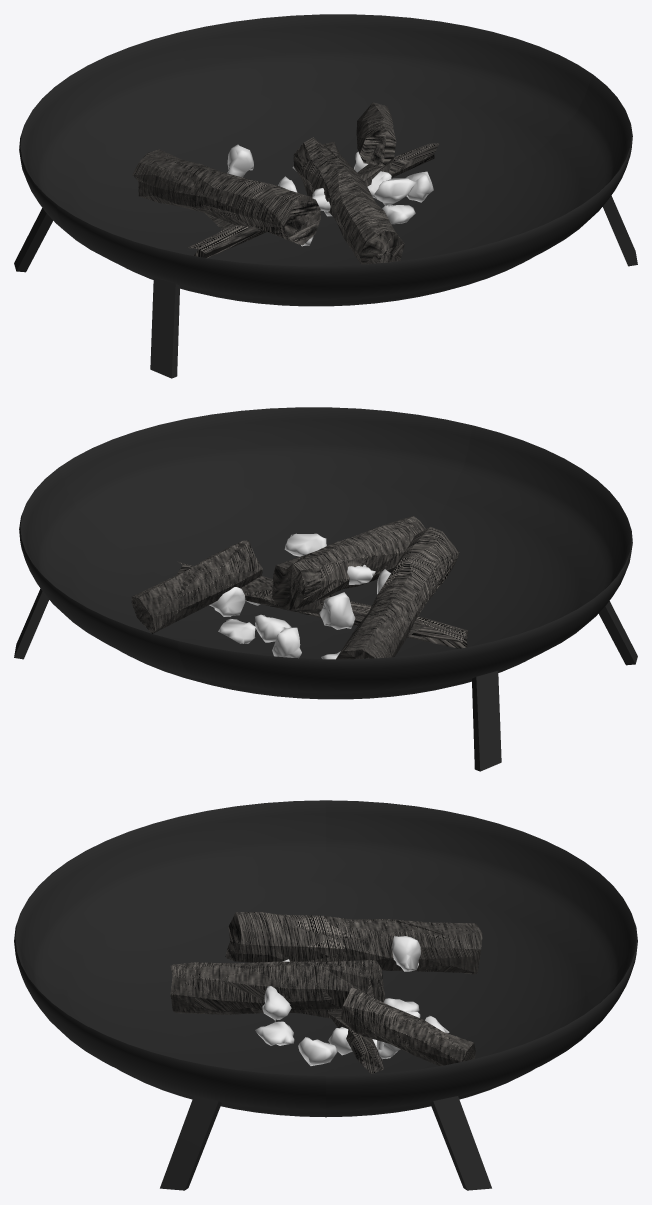
Rendered from firepit.fbx.
The picture shows the model from 3 angles, top to bottom: view 1: azimuth 30°, elevation 25°; view 2: azimuth 150°, elevation 25°; view 3: azimuth 270°, elevation 25°; orthographic projection. The views are drawn at different scales.
Parts seen in each view (by area): view 1: Basin, Wood, Rocks; view 2: Basin, Wood, Rocks; view 3: Basin, Wood, Rocks.
Boxes of the visible parts, x1=… form: Basin: x1=14, y1=14, x2=637, y2=378; Wood: x1=132, y1=102, x2=439, y2=264; Rocks: x1=227, y1=144, x2=433, y2=246; Basin: x1=14, y1=407, x2=637, y2=771; Wood: x1=131, y1=516, x2=468, y2=659; Rocks: x1=209, y1=533, x2=390, y2=659; Basin: x1=14, y1=800, x2=637, y2=1190; Wood: x1=170, y1=912, x2=482, y2=1074; Rocks: x1=255, y1=936, x2=449, y2=1065.
Size of the model in its own units: 309 by 68.7 by 295.
